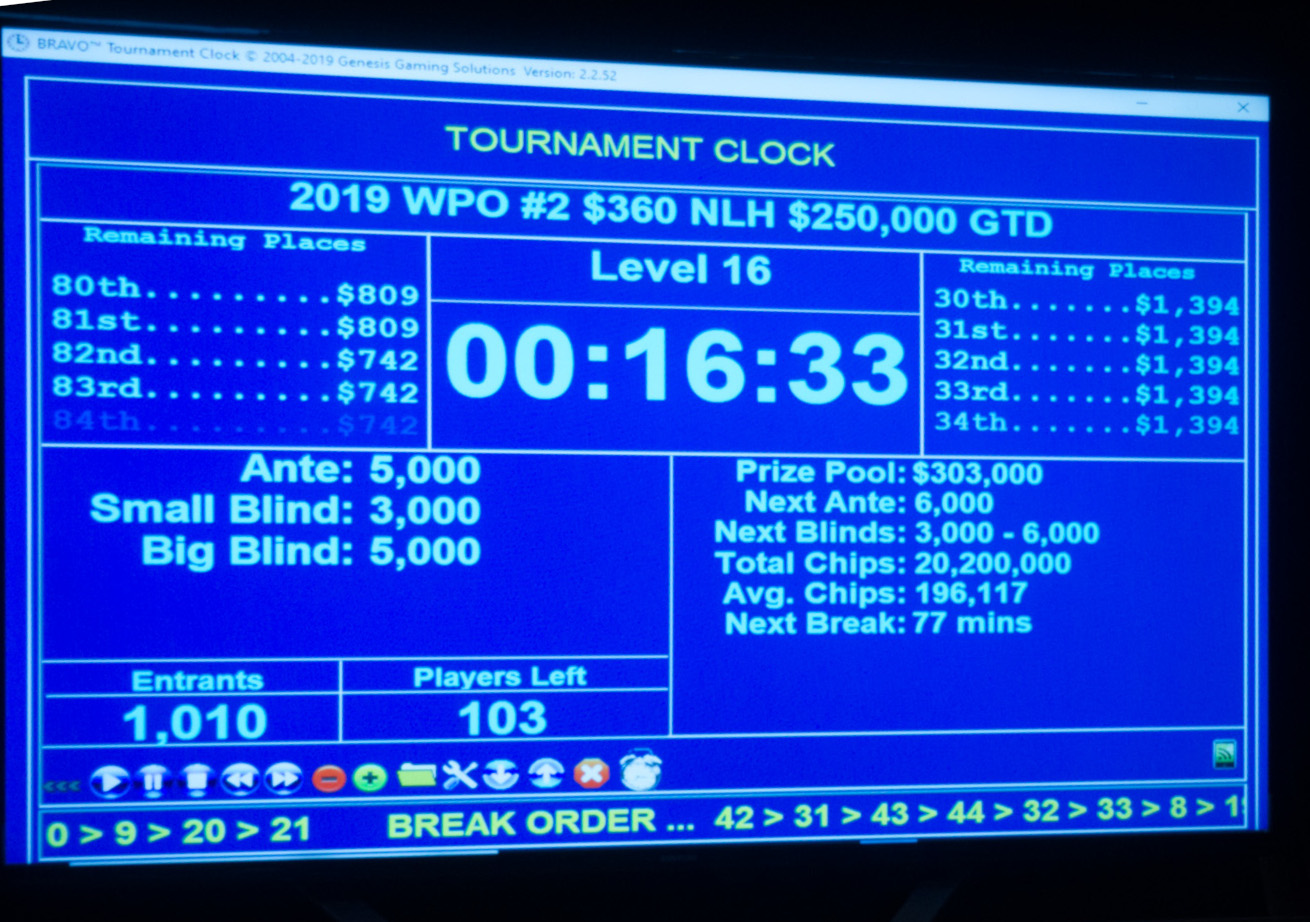PlayersLeft: (336, 657, 672, 746)
Remaining: (34, 214, 435, 453), (918, 248, 1252, 464)
TournamentClock: (22, 155, 1253, 744)
